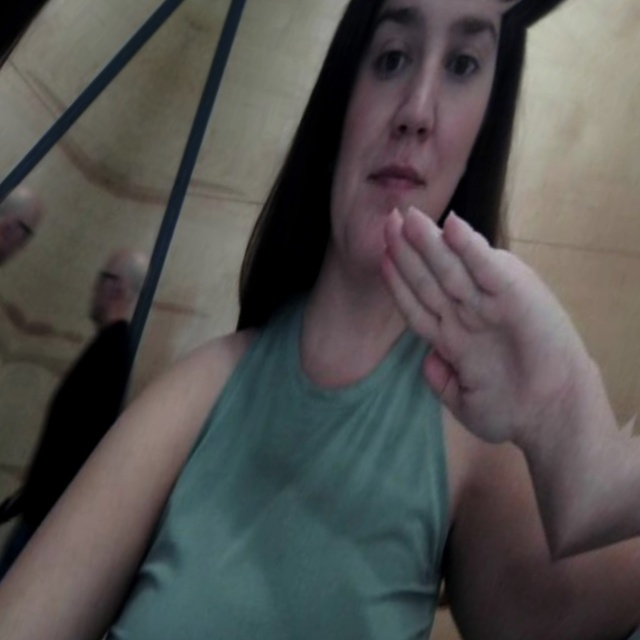Paper: (513, 0, 640, 96)
